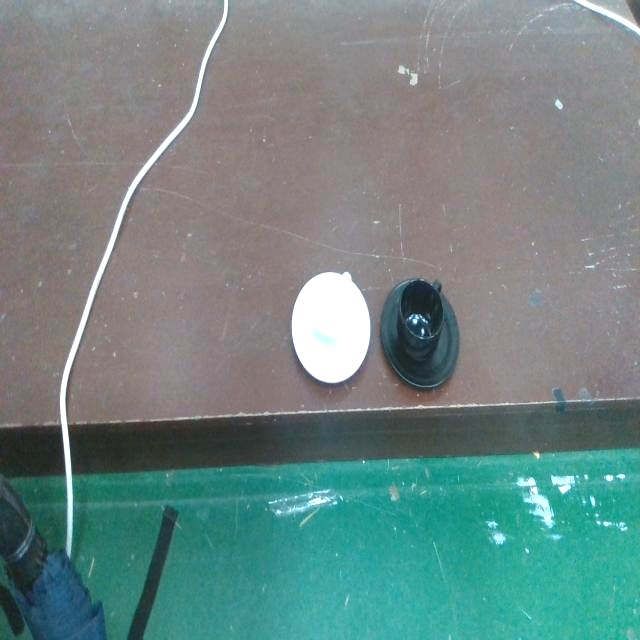black: (378, 271, 462, 394)
white: (290, 267, 372, 392)
